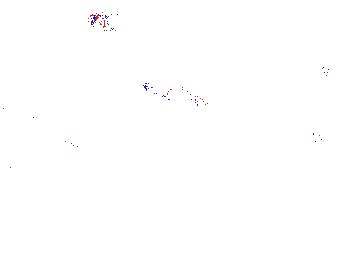X-ray fish: (87, 10, 129, 33)
glassfish: (1, 98, 77, 153)
red belly glassfish: (318, 61, 335, 80)
redtail glassfish: (257, 112, 326, 153), (142, 80, 204, 114)
